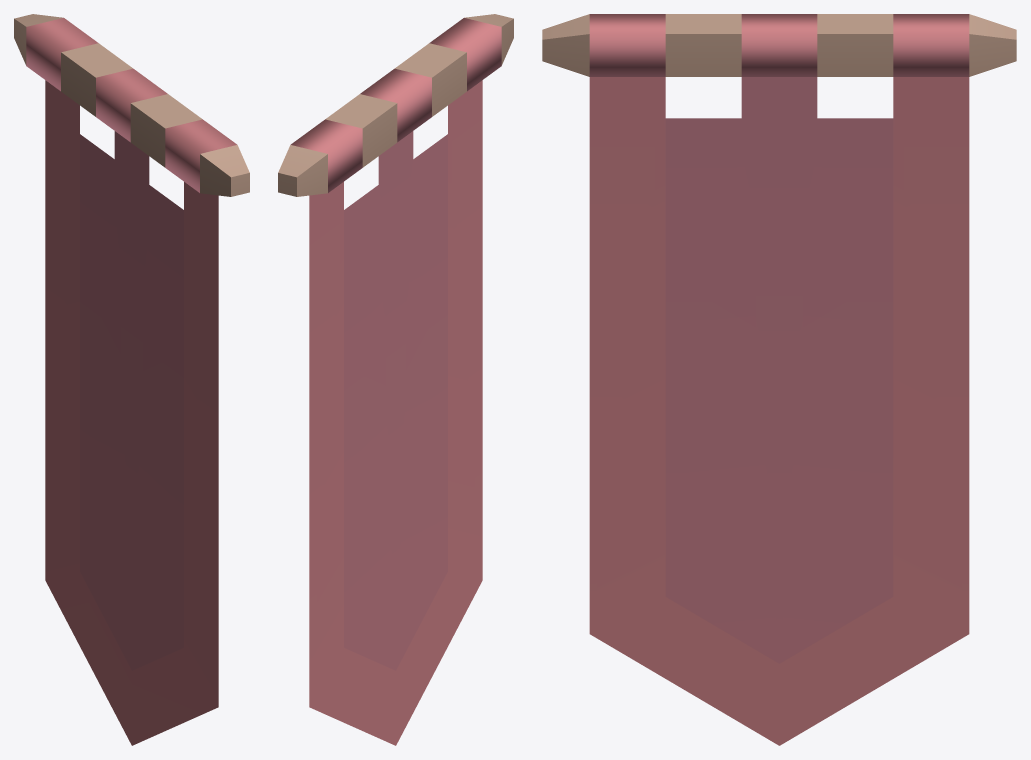
File: banner-red.glb
3 renders of one model, left to right at view 1: azimuth 30°, elevation 25°; view 2: azimuth 150°, elevation 25°; view 3: azimuth 270°, elevation 25°, orthographic. The views are drawn at different scales.
Visible parts, largest first — view 1: banner-red; view 2: banner-red; view 3: banner-red.
Part boxes in pixels (<box>): banner-red: <box>14,14,249,745</box>; banner-red: <box>278,14,513,745</box>; banner-red: <box>542,14,1016,745</box>.
Bounding box in the file's own units: 0.05 × 0.8394 × 0.5.
